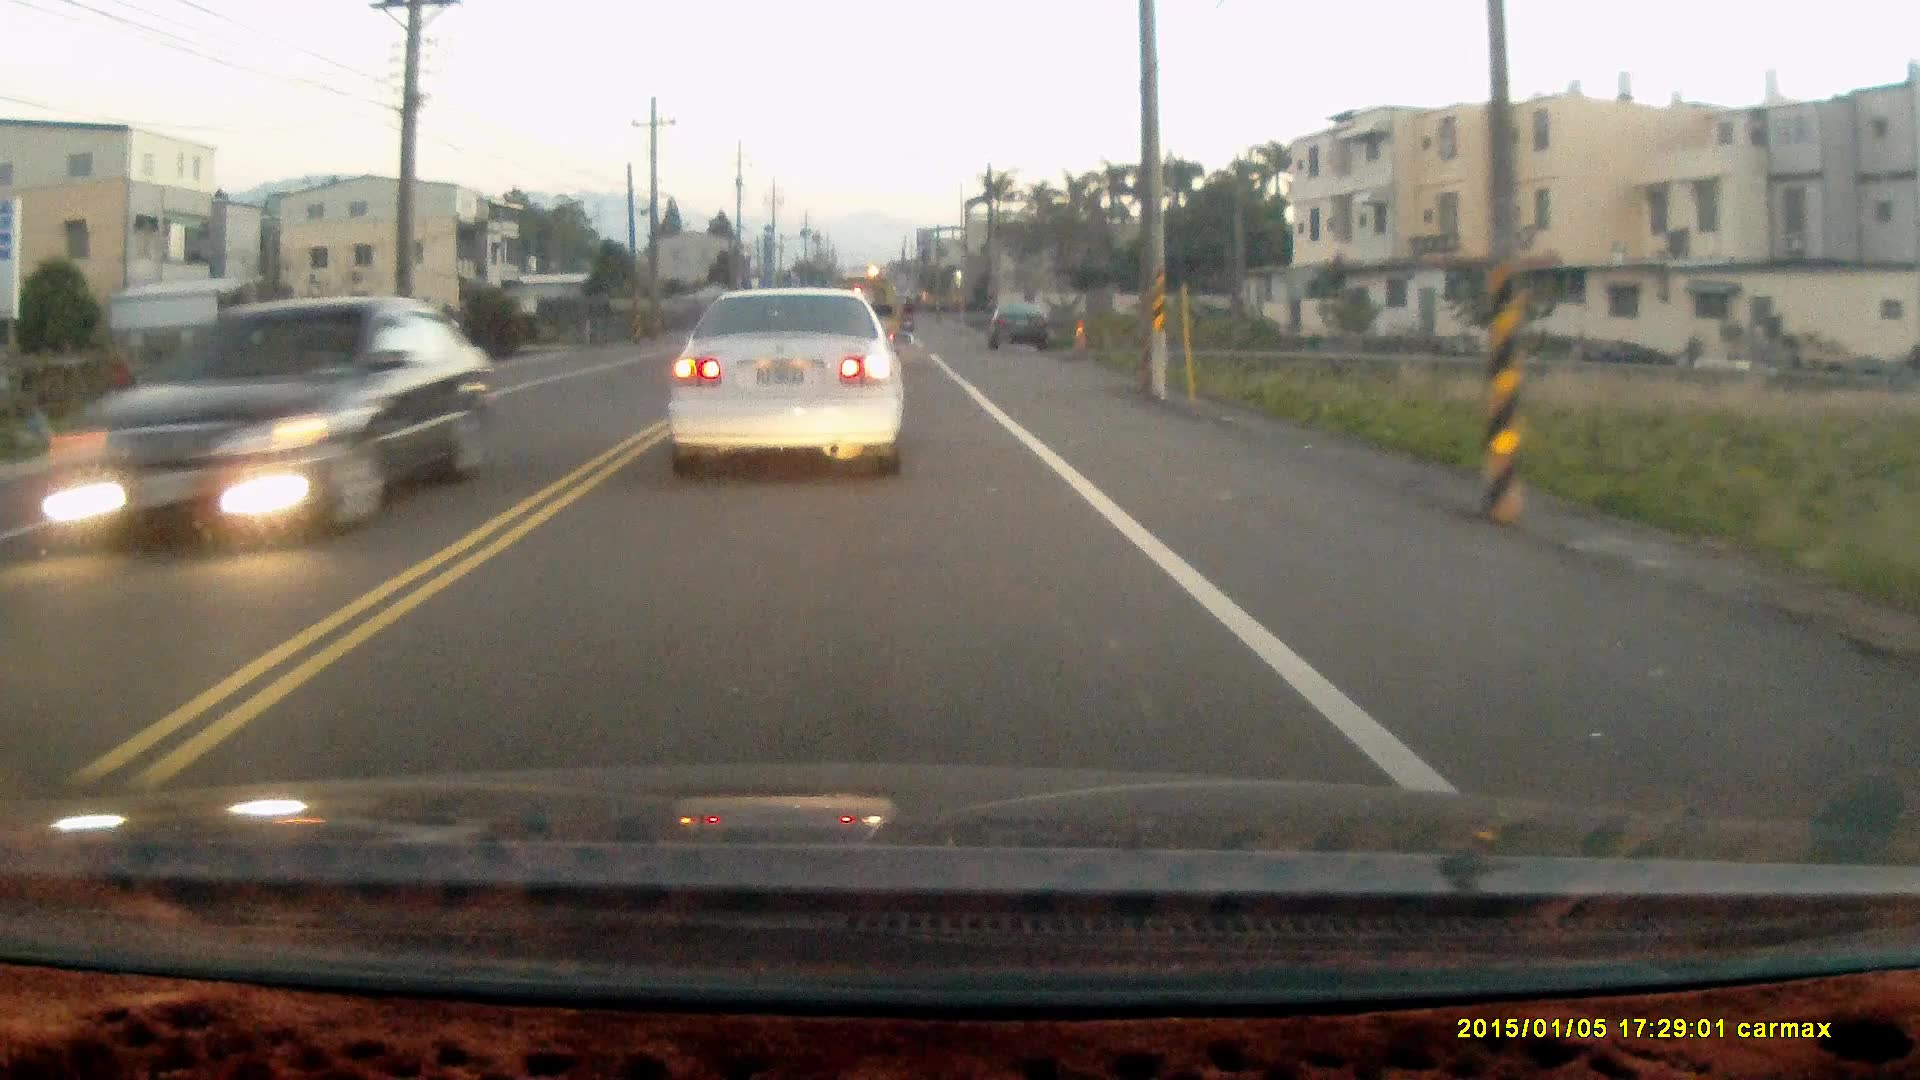pedestrian: (108, 355, 138, 414)
vehicle: (30, 296, 489, 557), (664, 293, 905, 489), (993, 295, 1064, 354)
